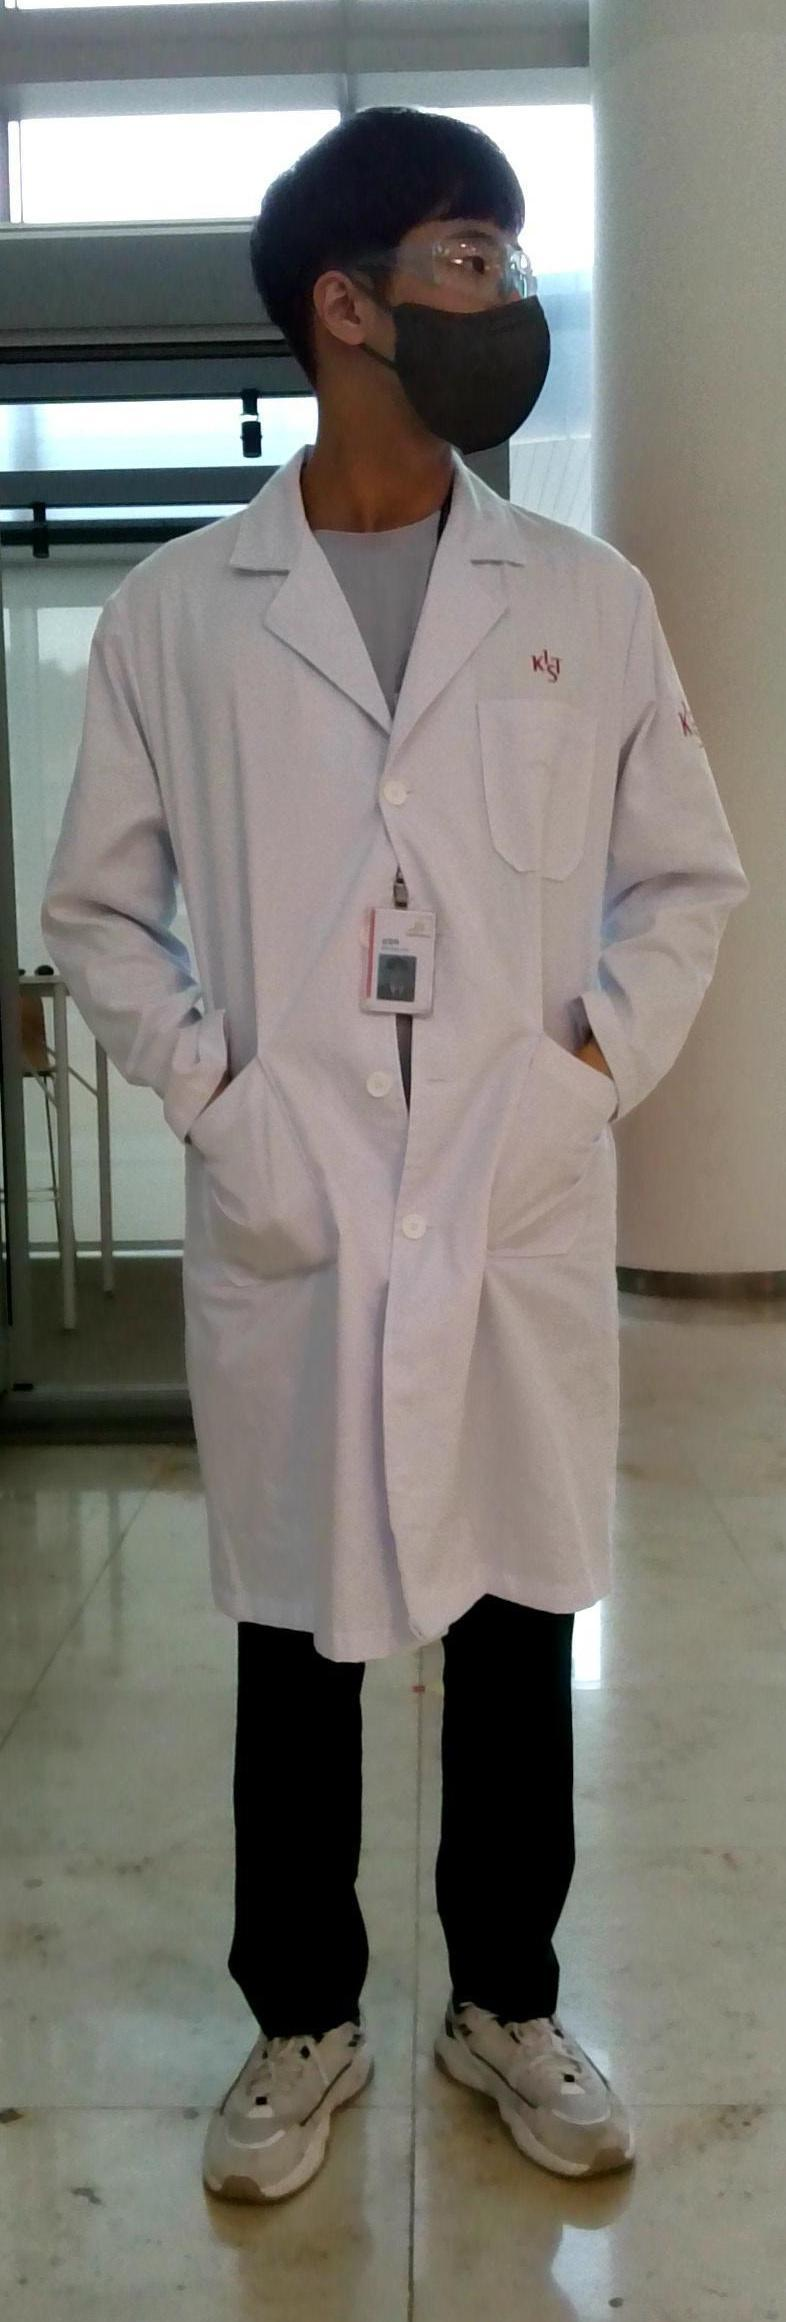lab_coat: (52, 511, 745, 1574)
